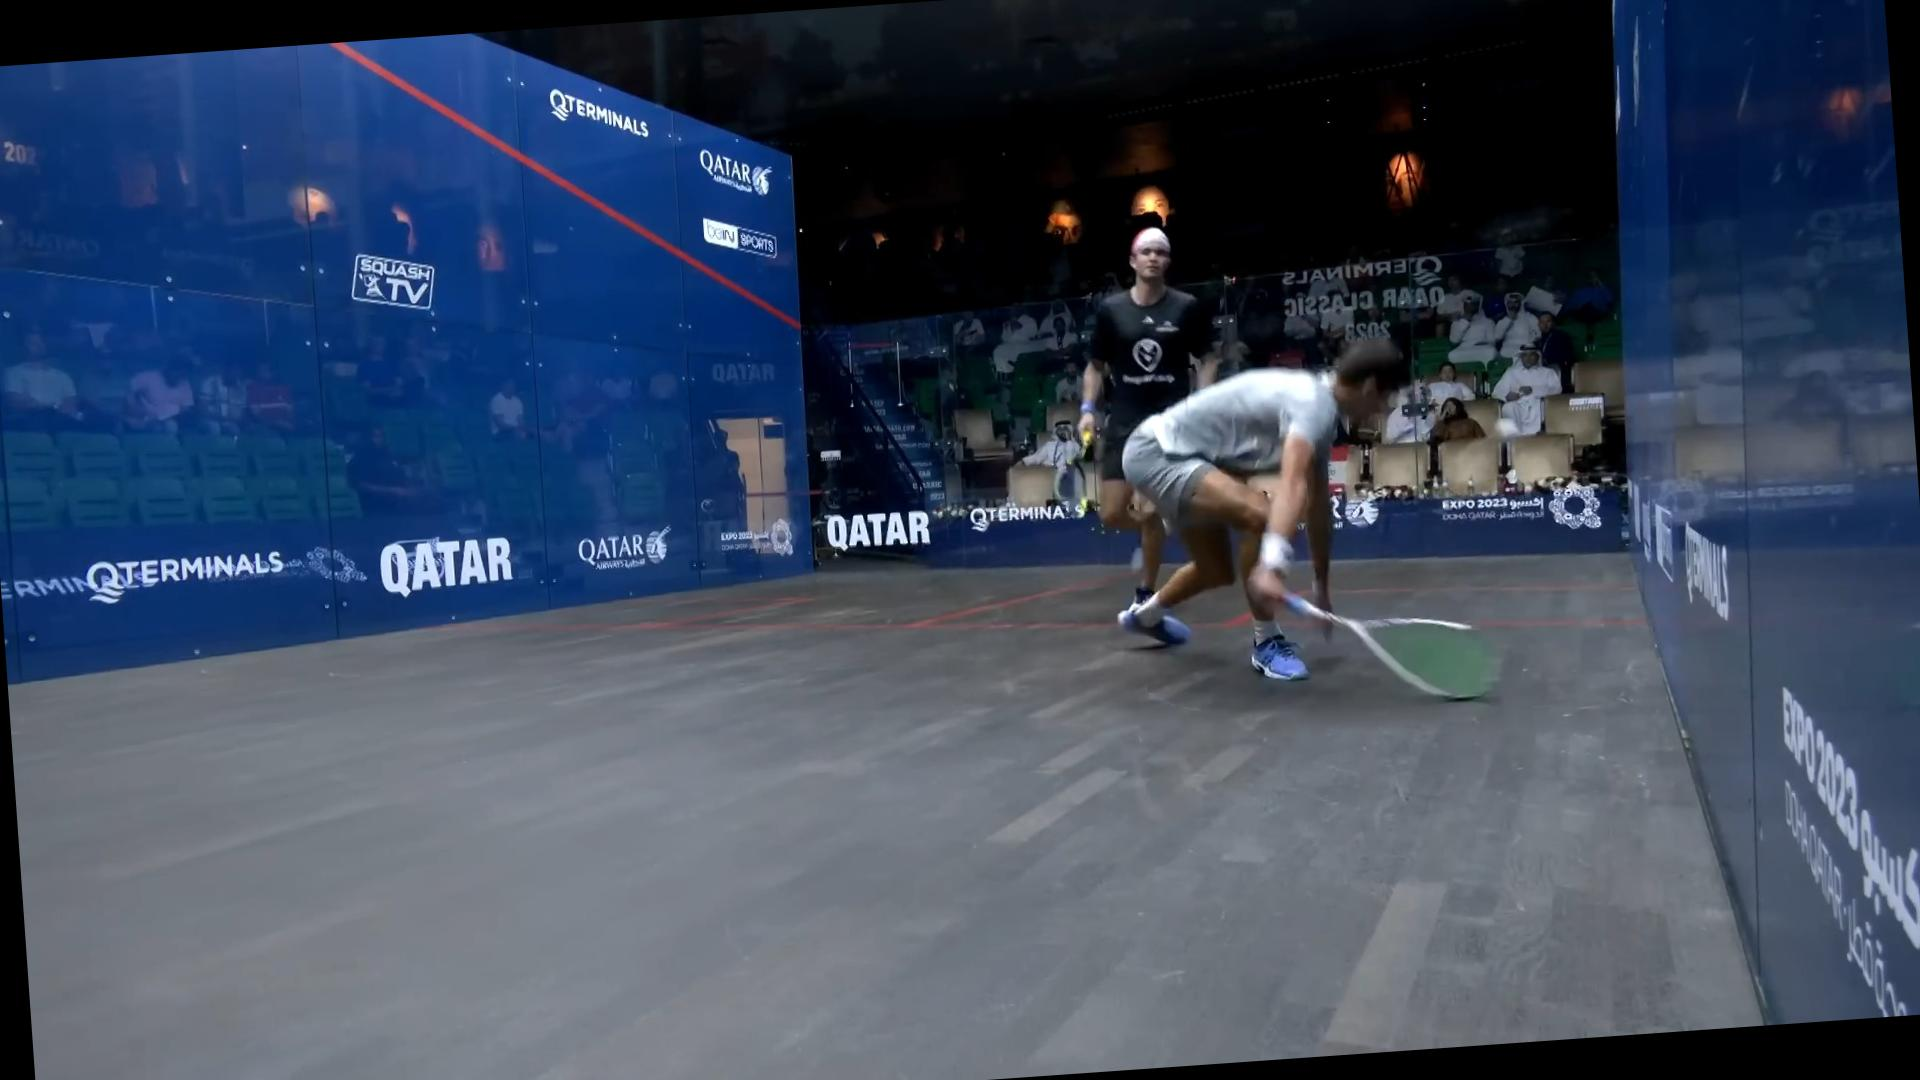Racket: (1276, 574, 1514, 719)
